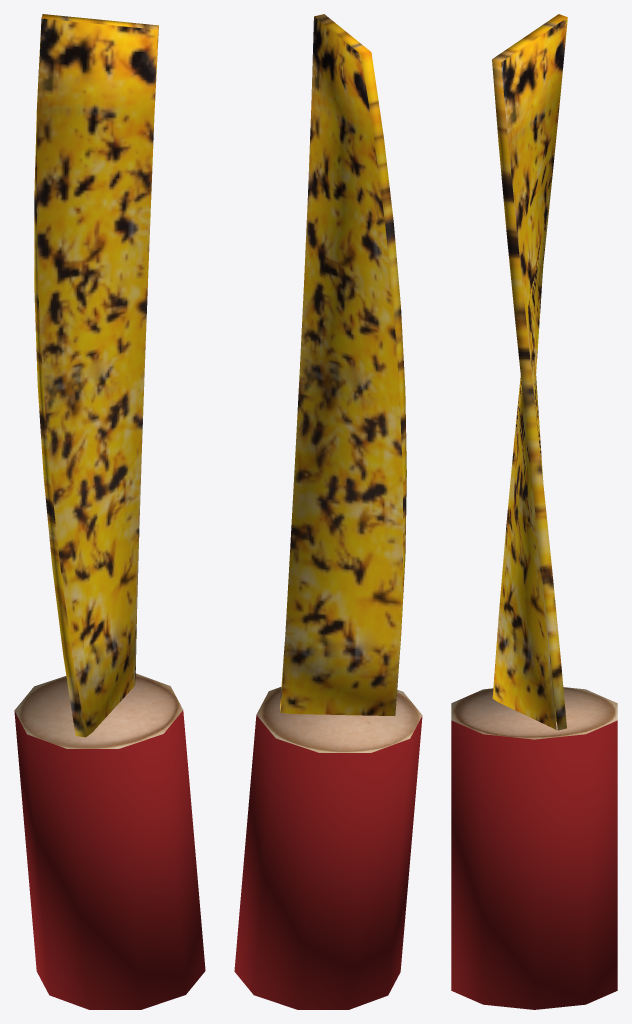
File: flypaper.FBX
3 renders of one model, left to right at view 1: azimuth 30°, elevation 25°; view 2: azimuth 150°, elevation 25°; view 3: azimuth 270°, elevation 25°, orthographic. The views are drawn at different scales.
Parts seen in each view (by area): view 1: fly_paper; view 2: fly_paper; view 3: fly_paper.
Part boxes in pixels (x1,y1,x2,y2): fly_paper: (14,14,205,1009); fly_paper: (234,14,422,1009); fly_paper: (451,14,617,1009).
Size of the model in its own units: 5.96 by 33.21 by 5.3.
